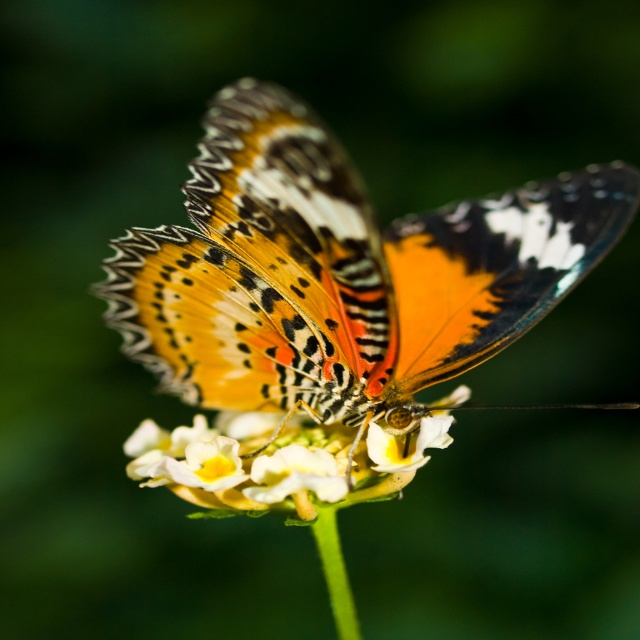Butterfly: (90, 73, 639, 491)
